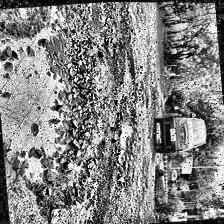pothole: (0, 20, 88, 182), (113, 4, 142, 82), (108, 110, 140, 166), (80, 1, 108, 47)
